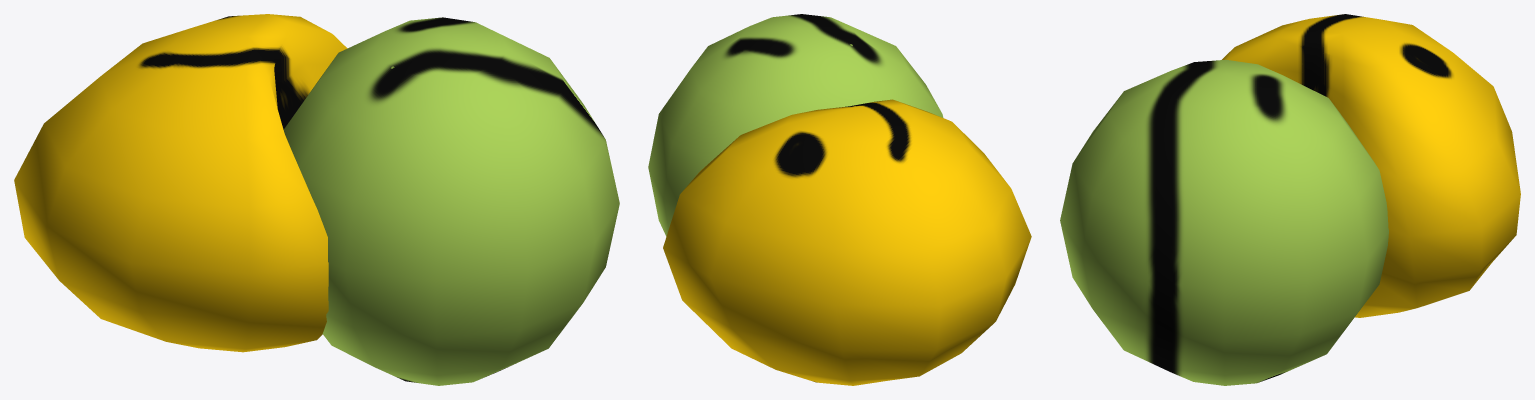
The model's file is sex.fbx.
3 renders of one model, left to right at view 1: azimuth 30°, elevation 25°; view 2: azimuth 150°, elevation 25°; view 3: azimuth 270°, elevation 25°, orthographic. The views are drawn at different scales.
Parts seen in each view (by area): view 1: sex; view 2: sex; view 3: sex.
Boxes of the visible parts, x1=… form: sex: x1=14, y1=14, x2=619, y2=385; sex: x1=648, y1=14, x2=1031, y2=385; sex: x1=1060, y1=14, x2=1520, y2=385.
Bounding box in the file's own units: 59.37 × 39.72 × 55.71.
